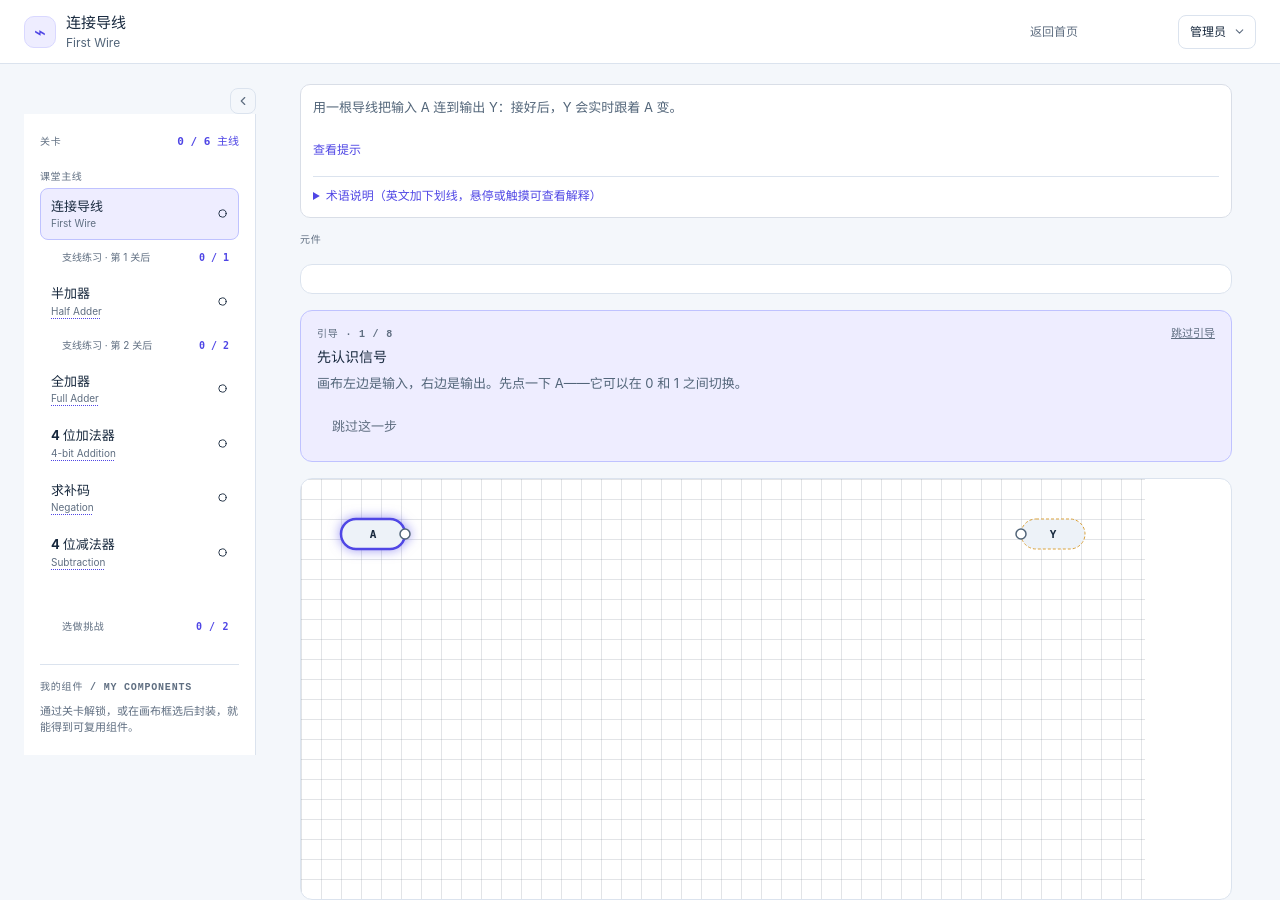
Test: CalculatorLabPage coach › can reopen the guide after the learner skips it
This screenshot has width=1280, height=900.
expect the heading "先认识信号" is shown: met, box [317, 348, 387, 365]
Click the button "跳过引导": (1193, 333) [1171, 325, 1215, 341]
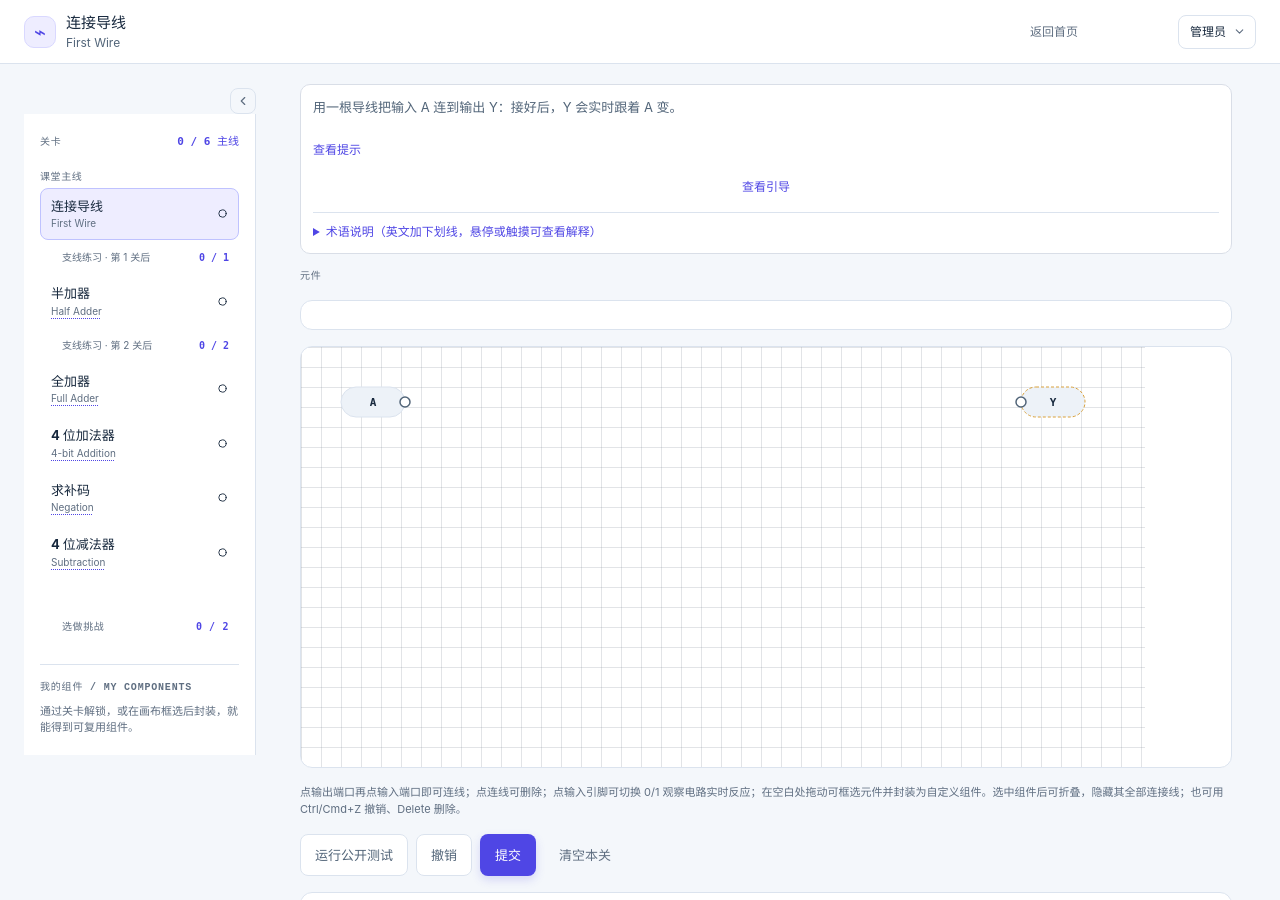
Click the button "查看引导": (766, 187) [313, 178, 1219, 196]
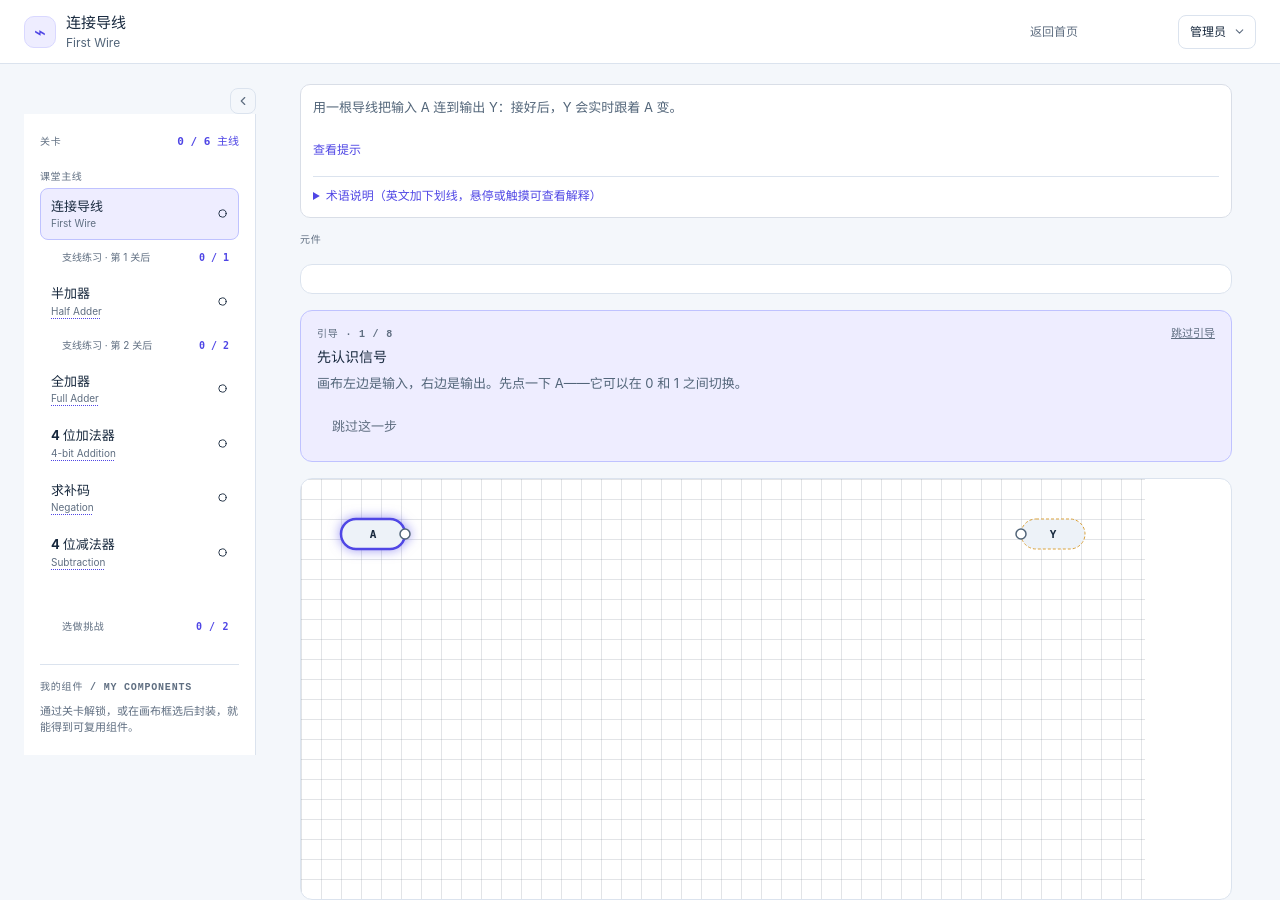
expect the heading "先认识信号" is shown: met, box [317, 348, 387, 365]
